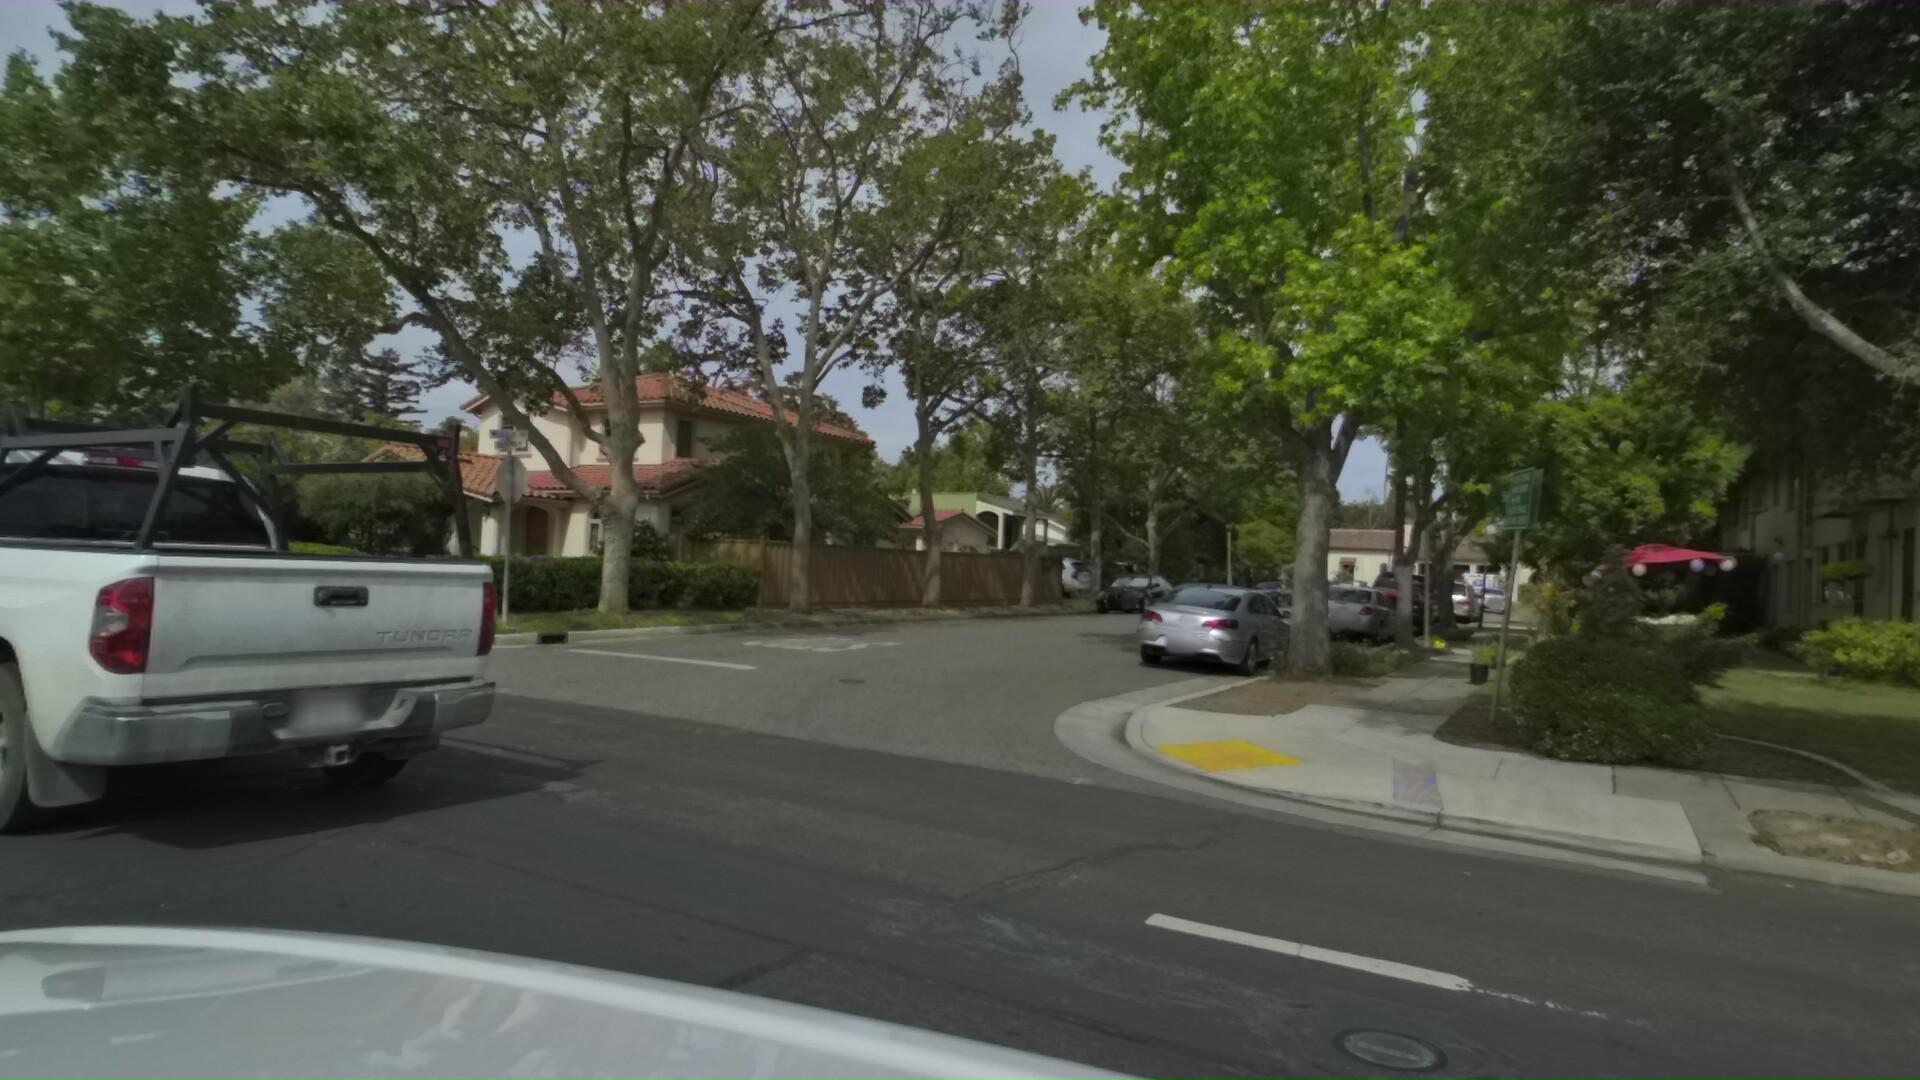car: (1093, 579, 1278, 682), (1331, 564, 1433, 640), (1278, 582, 1383, 647), (978, 554, 1091, 600), (1075, 568, 1166, 617), (1036, 558, 1135, 597), (1400, 575, 1472, 626), (1230, 579, 1288, 611), (1458, 585, 1501, 618)
truck: (1451, 570, 1495, 605)
